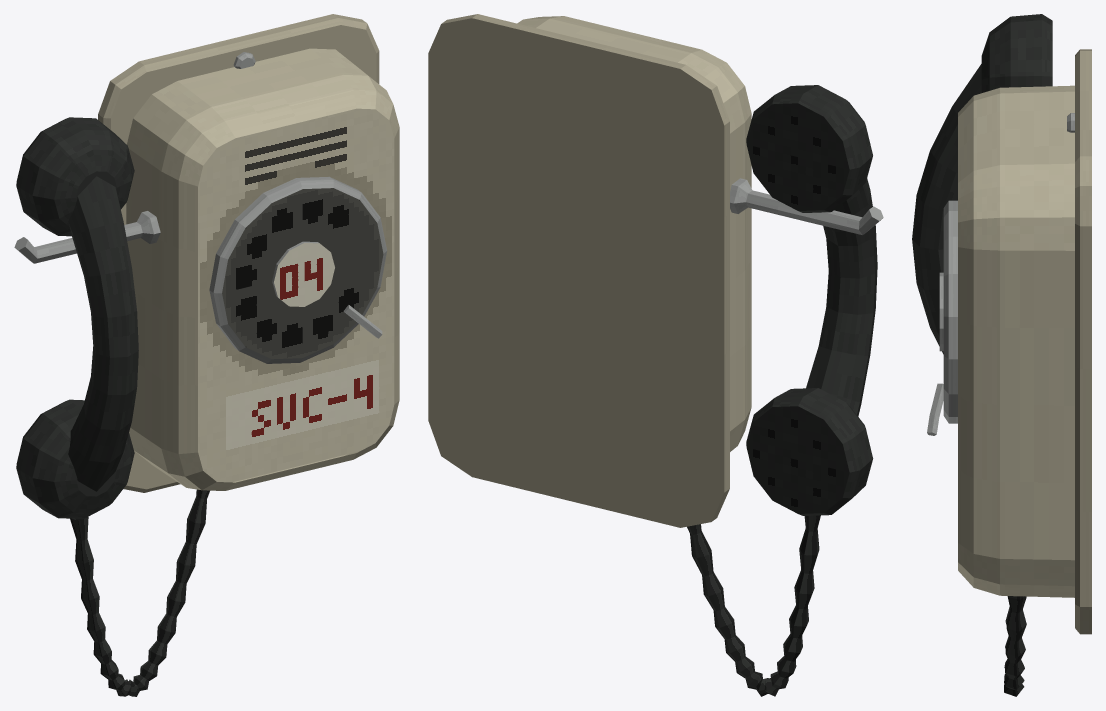
The model's file is wall_phone.glb.
3 views of the same model, side by side, from view 1: azimuth 30°, elevation 25°; view 2: azimuth 150°, elevation 25°; view 3: azimuth 270°, elevation 25° (orthographic). The views are drawn at different scales.
Visible parts, largest first — view 1: housing, dial_disc, handset_handle, backplate, handset_earpiece, handset_mouthpiece, cord_coil, dial_center, hook_arm; view 2: backplate, handset_mouthpiece, handset_earpiece, housing, handset_handle, cord_coil, hook_arm; view 3: housing, backplate, handset_handle, handset_earpiece, dial_disc, cord_coil, finger_stop, dial_center.
Boxes of the visible parts, x1,y1,x2,y2 form: housing: (126,48,399,490); dial_disc: (209,176,387,363); handset_handle: (68,176,138,491); backplate: (98,14,379,492); handset_earpiece: (16,117,134,236); handset_mouthpiece: (16,399,134,518); cord_coil: (70,489,209,696); dial_center: (272,241,334,306); hook_arm: (14,211,160,263); backplate: (428,14,729,527); handset_mouthpiece: (746,388,873,515); handset_earpiece: (746,85,872,212); housing: (517,16,751,451); handset_handle: (806,178,877,416); cord_coil: (687,515,820,696); hook_arm: (730,178,883,234); housing: (958,85,1074,597); backplate: (1075,49,1091,634); handset_handle: (912,64,981,354); handset_earpiece: (981,14,1052,92); dial_disc: (943,200,957,423); cord_coil: (1004,596,1026,696); finger_stop: (927,383,943,435); dial_center: (939,272,943,351).
Size of the model in its own units: 0.2385 by 0.3507 by 0.0856.
1 material, 1 textured.
